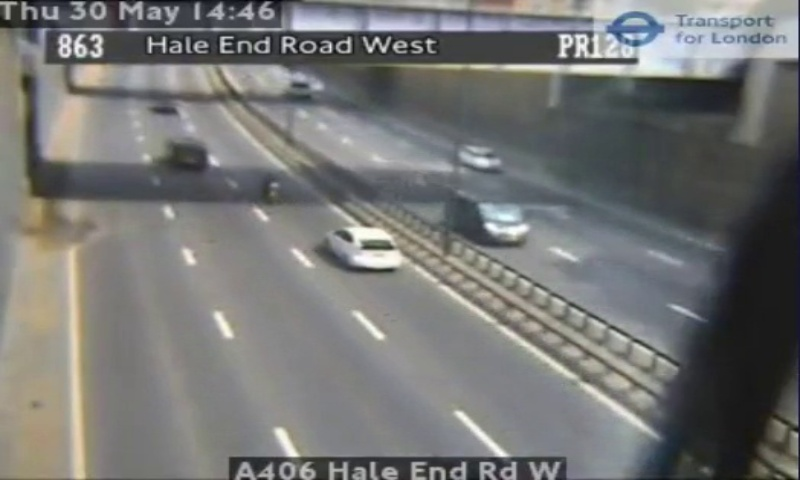car: (326, 227, 401, 269)
